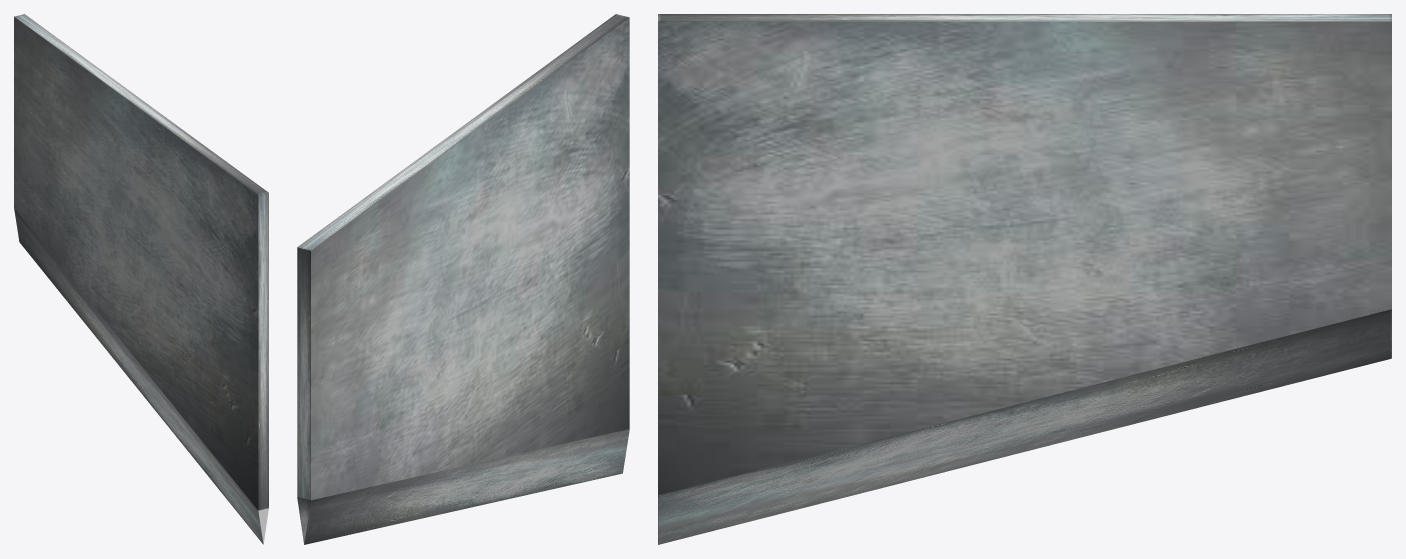
The model's file is blade.fbx.
3 renders of one model, left to right at view 1: azimuth 30°, elevation 25°; view 2: azimuth 150°, elevation 25°; view 3: azimuth 270°, elevation 25°, orthographic. The views are drawn at different scales.
Parts seen in each view (by area): view 1: blade; view 2: blade; view 3: blade.
Part boxes in pixels (left/top/right/bottom): blade: left=14, top=14, right=268, bottom=544; blade: left=297, top=14, right=629, bottom=544; blade: left=658, top=14, right=1391, bottom=544.
Bounding box in the file's own units: 4.41 × 175 × 139.
Materials: 2 (1 with a texture image).
